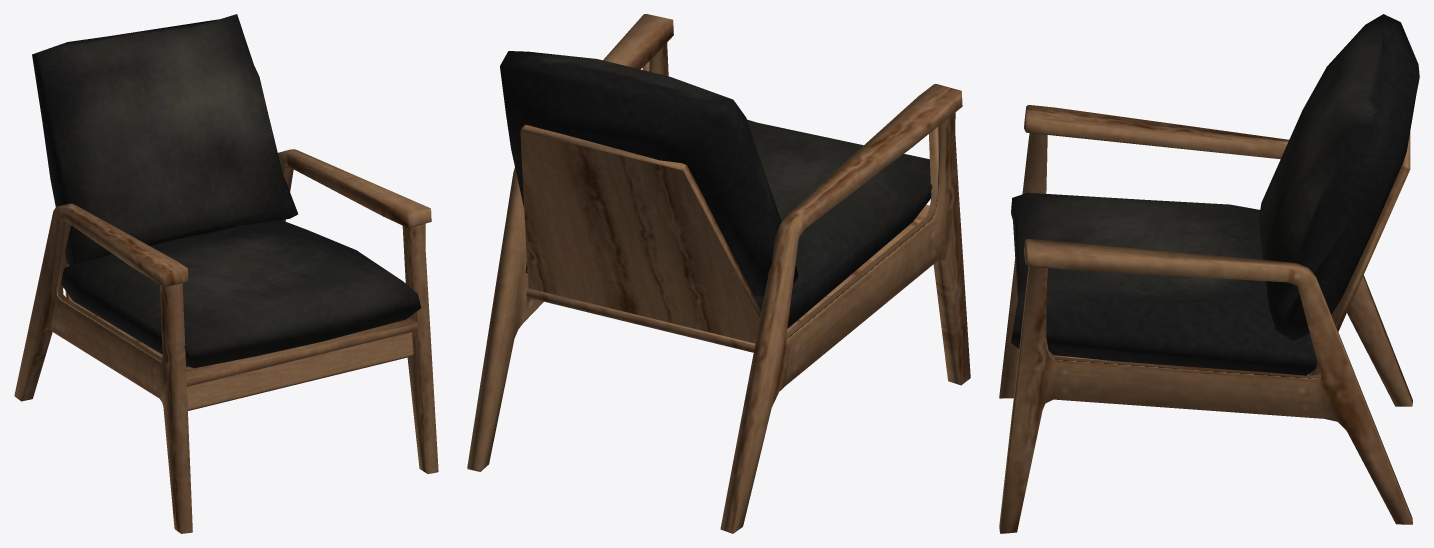
Rendered from modern_arm_chair_01_game.gltf.
3 views of the same model, side by side, from view 1: azimuth 30°, elevation 25°; view 2: azimuth 150°, elevation 25°; view 3: azimuth 270°, elevation 25° (orthographic). The views are drawn at different scales.
Visible parts, largest first — view 1: modern_arm_chair_01; view 2: modern_arm_chair_01; view 3: modern_arm_chair_01.
Part boxes in pixels (box(x1,y1,x2,y2)): modern_arm_chair_01: box(14, 14, 438, 533); modern_arm_chair_01: box(467, 14, 970, 533); modern_arm_chair_01: box(999, 14, 1419, 533).
Bounding box in the file's own units: 0.8185 × 1.02 × 0.9863.
2 materials, 2 textured.
